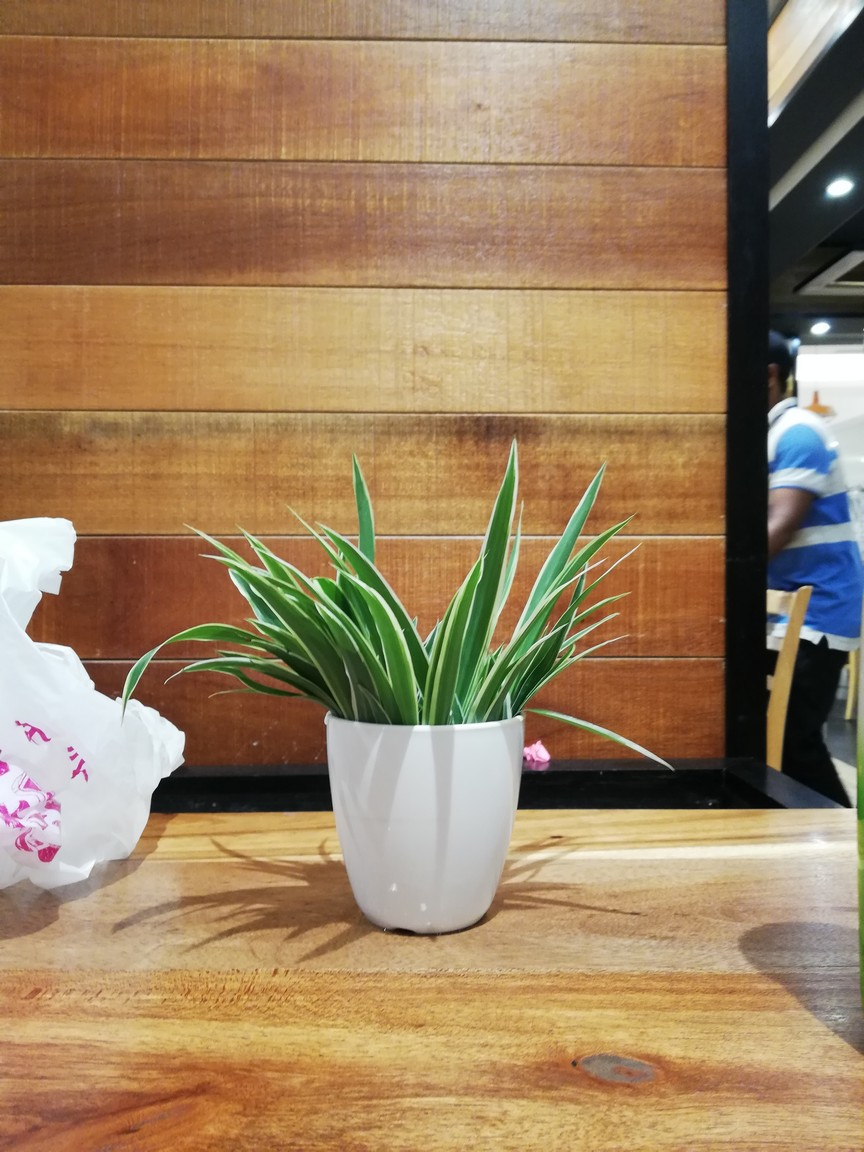daun: (121, 643, 163, 725), (565, 458, 608, 529), (487, 432, 519, 522), (448, 547, 485, 611), (354, 449, 377, 547), (182, 521, 237, 553), (316, 521, 358, 562), (591, 510, 639, 544), (328, 561, 373, 596), (162, 660, 221, 686), (356, 683, 392, 725), (286, 503, 319, 540), (574, 612, 620, 637), (198, 553, 255, 572), (584, 590, 634, 611), (585, 635, 633, 655), (252, 546, 295, 568), (611, 541, 644, 569), (235, 523, 270, 549), (573, 556, 609, 581), (512, 498, 525, 566), (243, 616, 275, 631), (426, 618, 441, 649), (212, 647, 249, 657), (208, 688, 245, 697), (494, 642, 505, 659), (412, 612, 419, 626)
